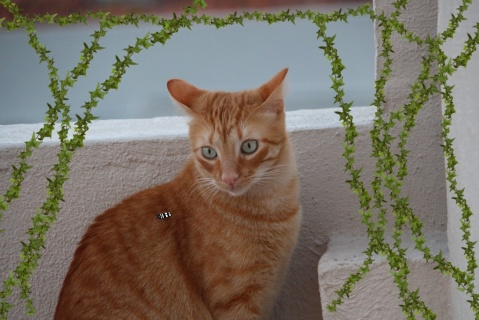Cat: (53, 66, 306, 320)
